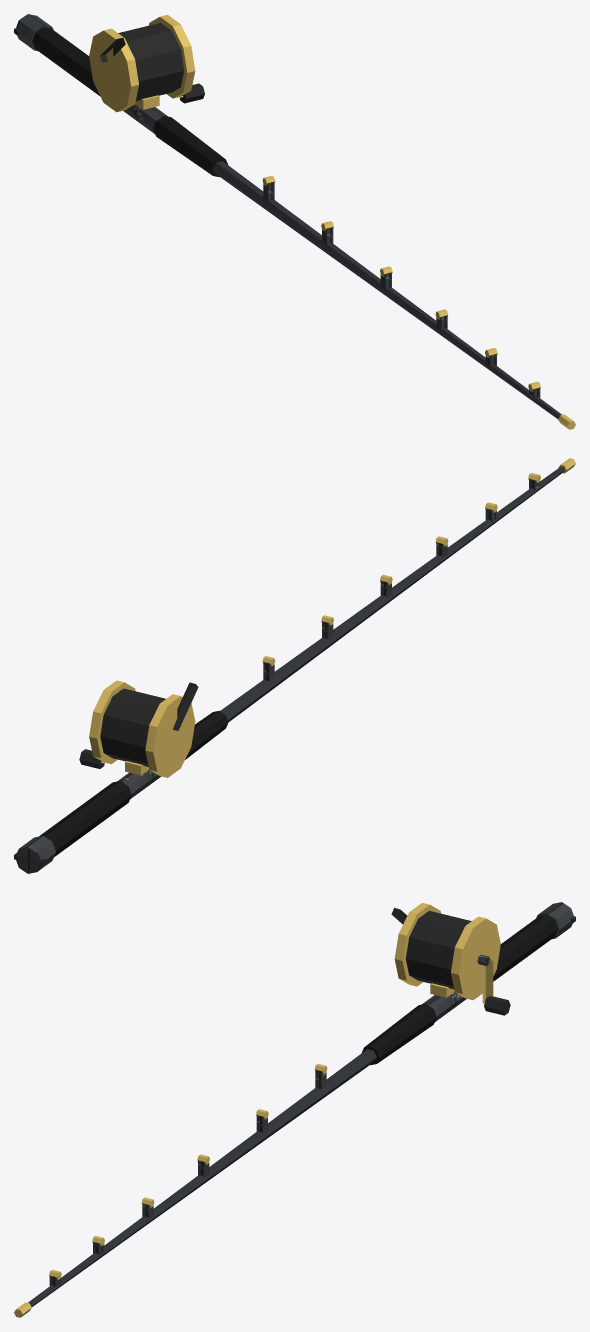
The model's file is rod.glb.
3 views of the same model, one above another, from view 1: azimuth 30°, elevation 25°; view 2: azimuth 150°, elevation 25°; view 3: azimuth 330°, elevation 25° (orthographic).
Parts seen in each view (by area): view 1: butt, blank; view 2: butt, blank; view 3: butt, blank, handle.
Part boxes in pixels (left/top/right/bottom): butt: left=14, top=14, right=227, bottom=177; blank: left=213, top=161, right=575, bottom=429; butt: left=14, top=680, right=228, bottom=873; blank: left=220, top=458, right=575, bottom=722; butt: left=362, top=902, right=575, bottom=1065; blank: left=14, top=1049, right=376, bottom=1317; handle: left=477, top=954, right=510, bottom=1015.
Bounding box in the file's own units: 0.1842 × 0.1884 × 1.76.
6 materials, 2 textured.
